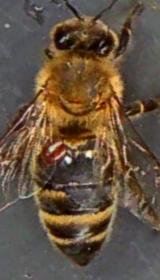varroa_mite: (41, 135, 68, 170)
